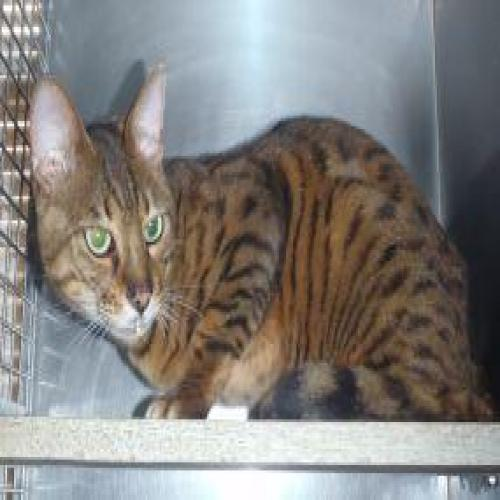bengal: (25, 48, 195, 354)
